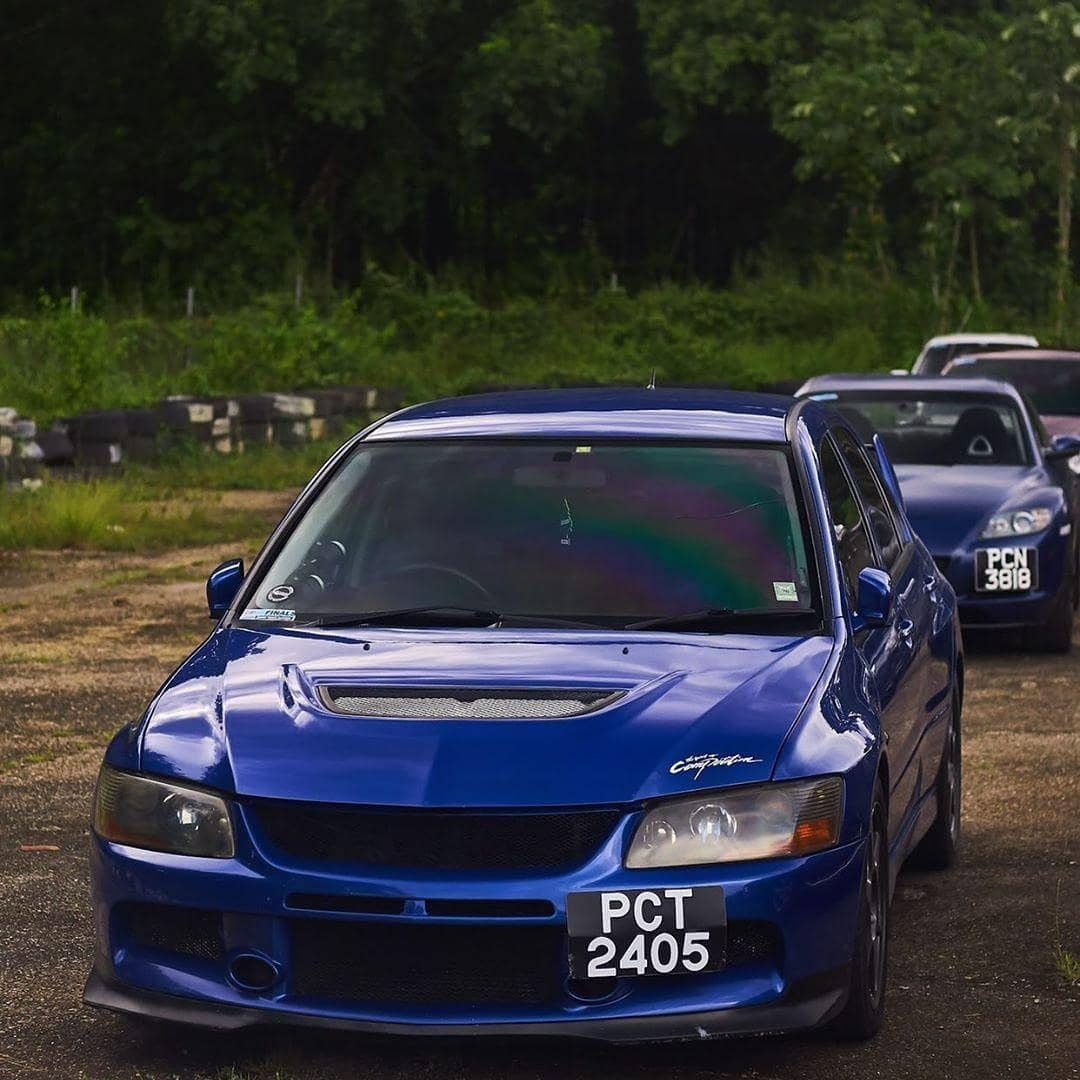License-Plate: (565, 892, 724, 981), (977, 547, 1037, 590)
